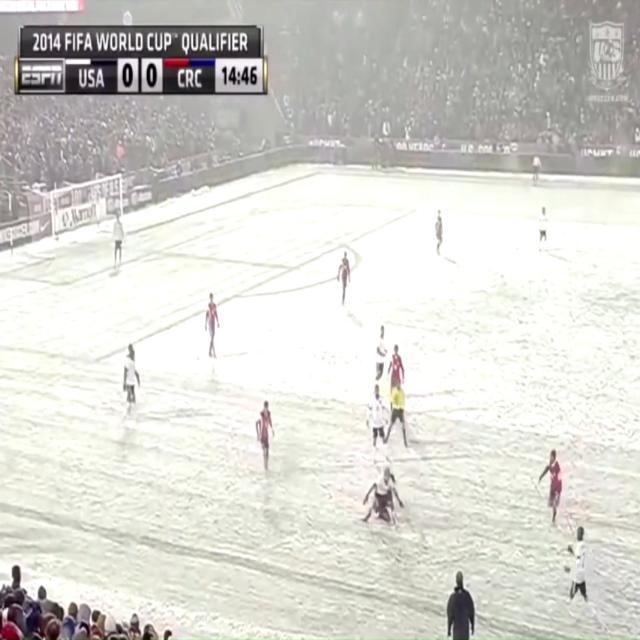goalkeeper: (110, 210, 127, 282)
player: (566, 521, 598, 625), (539, 443, 567, 532), (366, 386, 390, 468), (363, 469, 393, 530), (337, 247, 359, 329), (204, 290, 225, 367), (257, 391, 275, 476), (124, 344, 142, 424), (373, 324, 392, 396), (428, 208, 449, 273), (537, 205, 555, 264), (386, 336, 406, 386)
referee: (391, 380, 408, 435), (531, 152, 541, 187)
